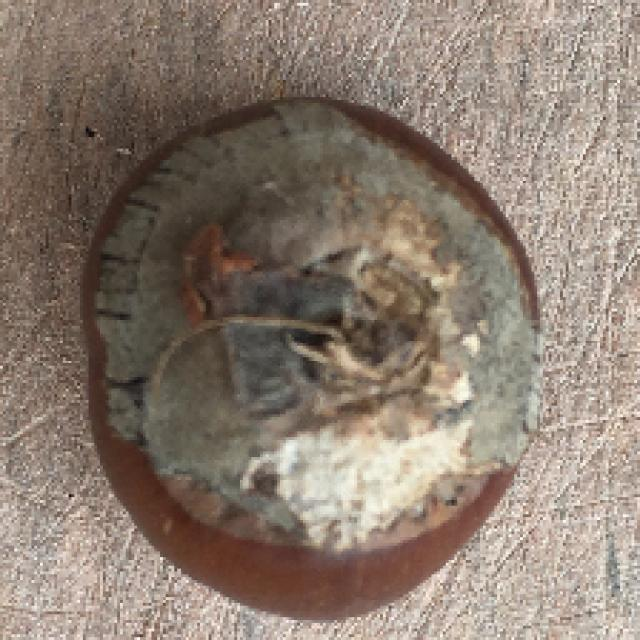damagedHazelnut: (54, 89, 566, 626)
